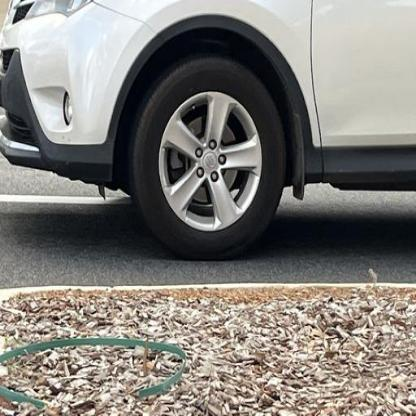Tire: (132, 58, 285, 260)
